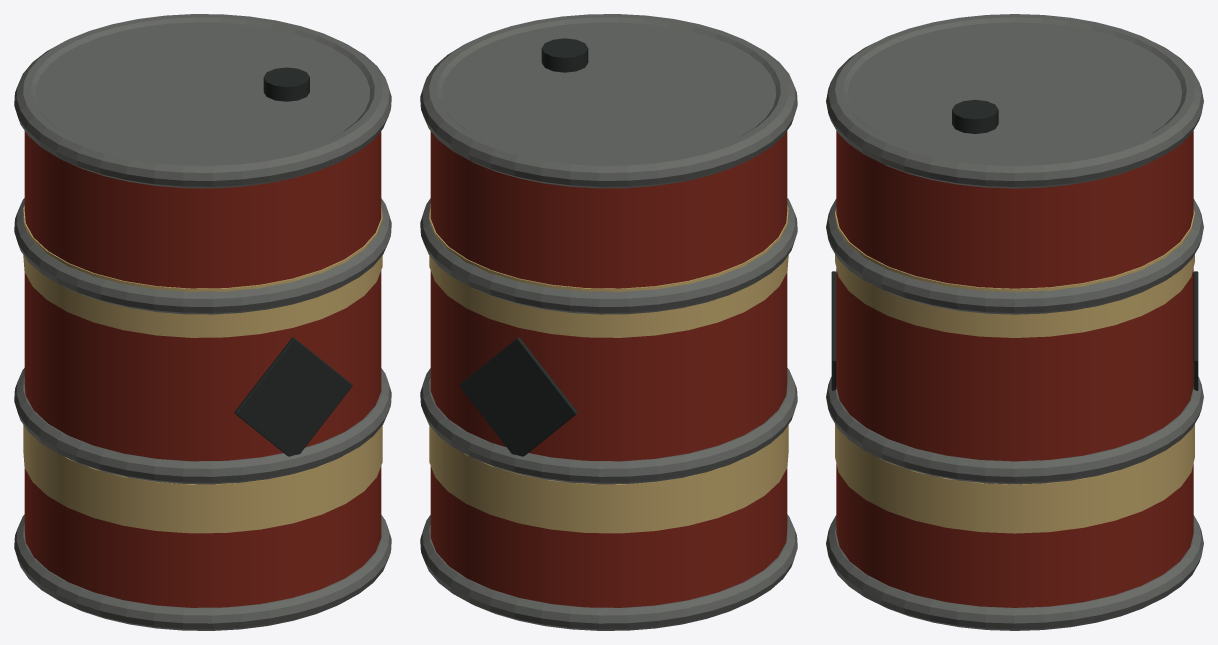
The model's file is noir-explosive-barrel.glb.
3 renders of one model, left to right at view 1: azimuth 30°, elevation 25°; view 2: azimuth 150°, elevation 25°; view 3: azimuth 270°, elevation 25°, orthographic.
Parts seen in each view (by area): view 1: fuel-red-enamel, oil-barrel-steel.001, hazard-ivory, lamp-enamel.003; view 2: fuel-red-enamel, oil-barrel-steel.001, hazard-ivory, lamp-enamel.003; view 3: fuel-red-enamel, oil-barrel-steel.001, hazard-ivory, lamp-enamel.003.
Boxes of the visible parts, x1,y1,x2,y2 form: fuel-red-enamel: (24, 131, 381, 607); oil-barrel-steel.001: (14, 14, 391, 630); hazard-ivory: (23, 204, 382, 533); lamp-enamel.003: (234, 67, 352, 456); fuel-red-enamel: (430, 131, 787, 607); oil-barrel-steel.001: (420, 14, 797, 630); hazard-ivory: (429, 204, 788, 533); lamp-enamel.003: (459, 38, 588, 456); fuel-red-enamel: (836, 131, 1193, 607); oil-barrel-steel.001: (826, 14, 1203, 630); hazard-ivory: (835, 209, 1194, 533); lamp-enamel.003: (831, 99, 1198, 390).
Bounding box in the file's own units: 0.666 × 0.9264 × 0.666.
